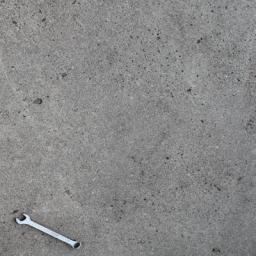FOD: (15, 211, 84, 252)
